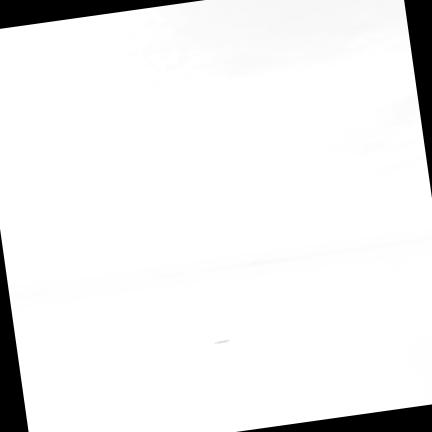Shahed: (215, 339, 229, 342)
